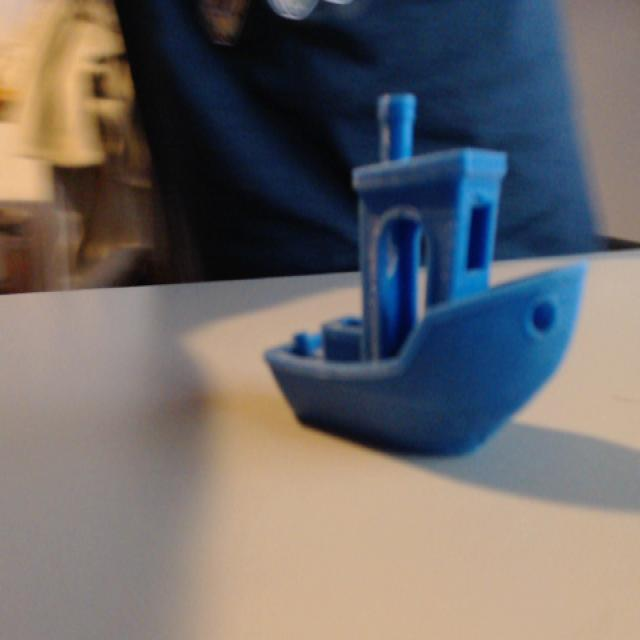benchy: (261, 88, 588, 460)
